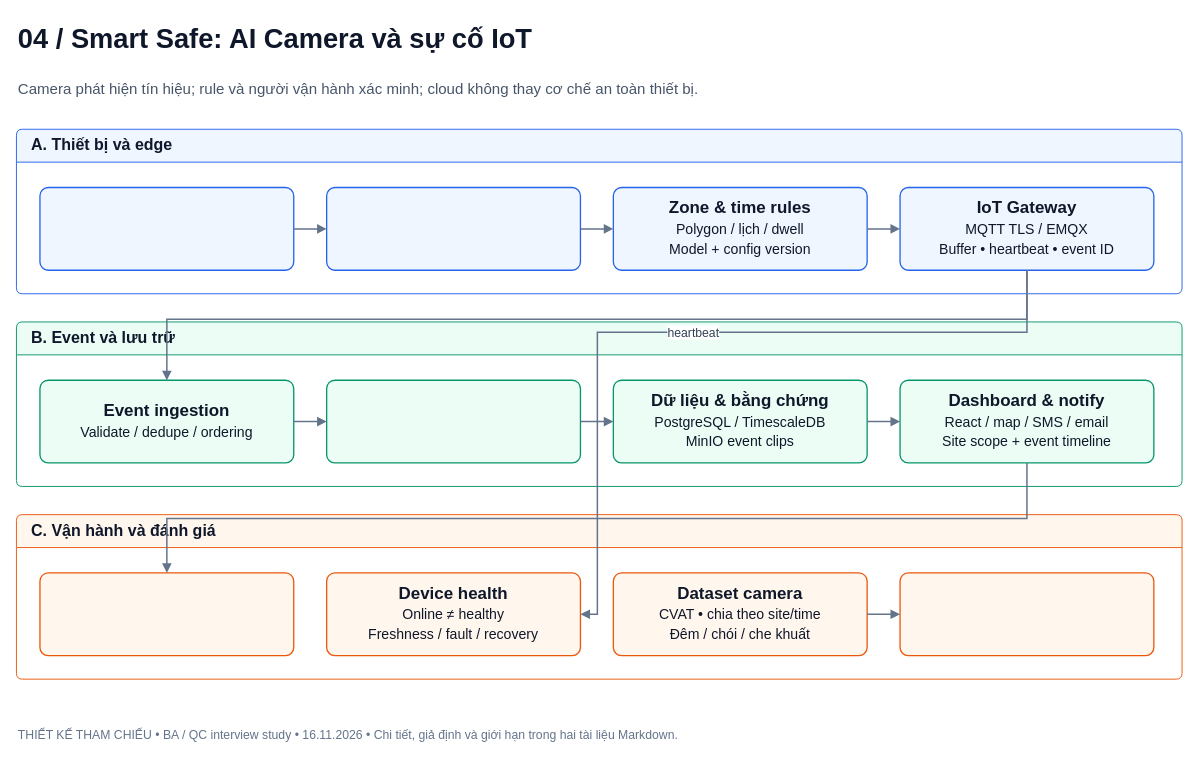
Some shapes in this 1199 by 771 pixel diagram are drawn without their labels. The centre of each missing label's shape, as x and y in pixels:
Bảo vệ xác minh Acknowledge / assign Resolve / close / reopen: [166,614]
Camera / cảm biến RTSP video • door/PIR/smoke Site / device / timestamp: [166,228]
Edge inference GStreamer → YOLOX ByteTrack • ONNX/TensorRT: [453,228]
Incident service Spring Boot + RabbitMQ Correlate sensor + camera: [453,421]
Nghiệm thu event Precision / recall False alarms/camera-hour: [1026,614]
